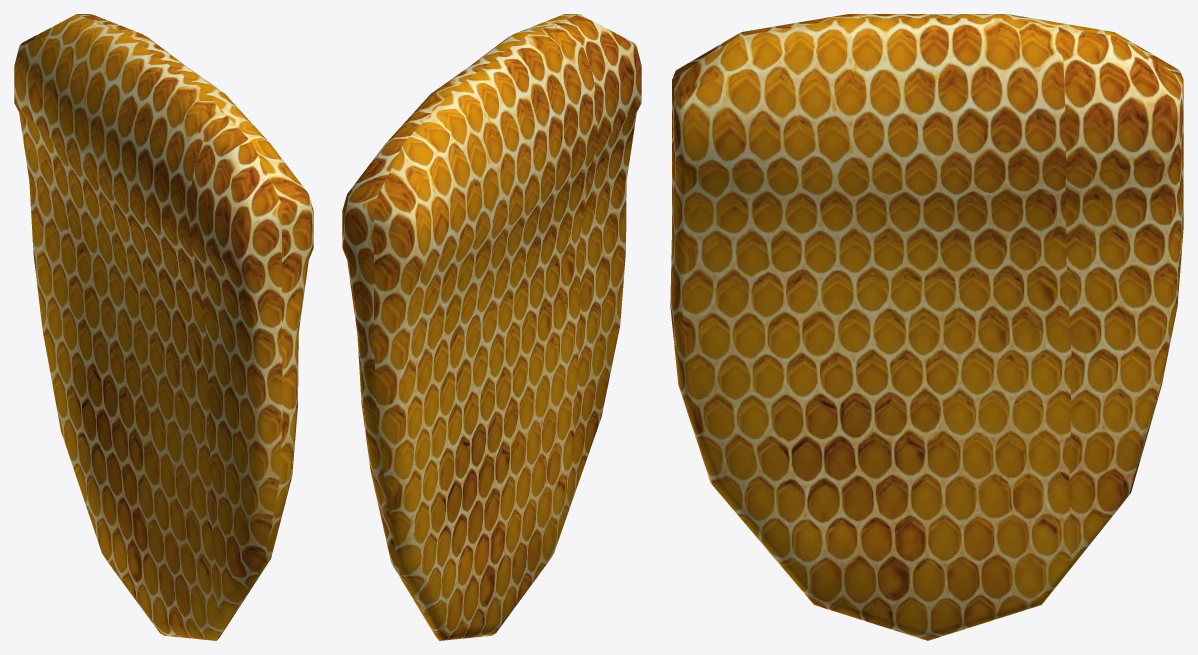
Rendered from Beehive.FBX.
3 views of the same model, side by side, from view 1: azimuth 30°, elevation 25°; view 2: azimuth 150°, elevation 25°; view 3: azimuth 270°, elevation 25° (orthographic). The views are drawn at different scales.
Parts seen in each view (by area): view 1: Behive; view 2: Behive; view 3: Behive.
Part boxes in pixels (box(x1,y1,x2,y2)): Behive: box(14, 14, 313, 640); Behive: box(342, 14, 641, 640); Behive: box(670, 14, 1183, 640).
Bounding box in the file's own units: 0.1537 × 0.7562 × 1.01.
Materials: 1 (1 with a texture image).
